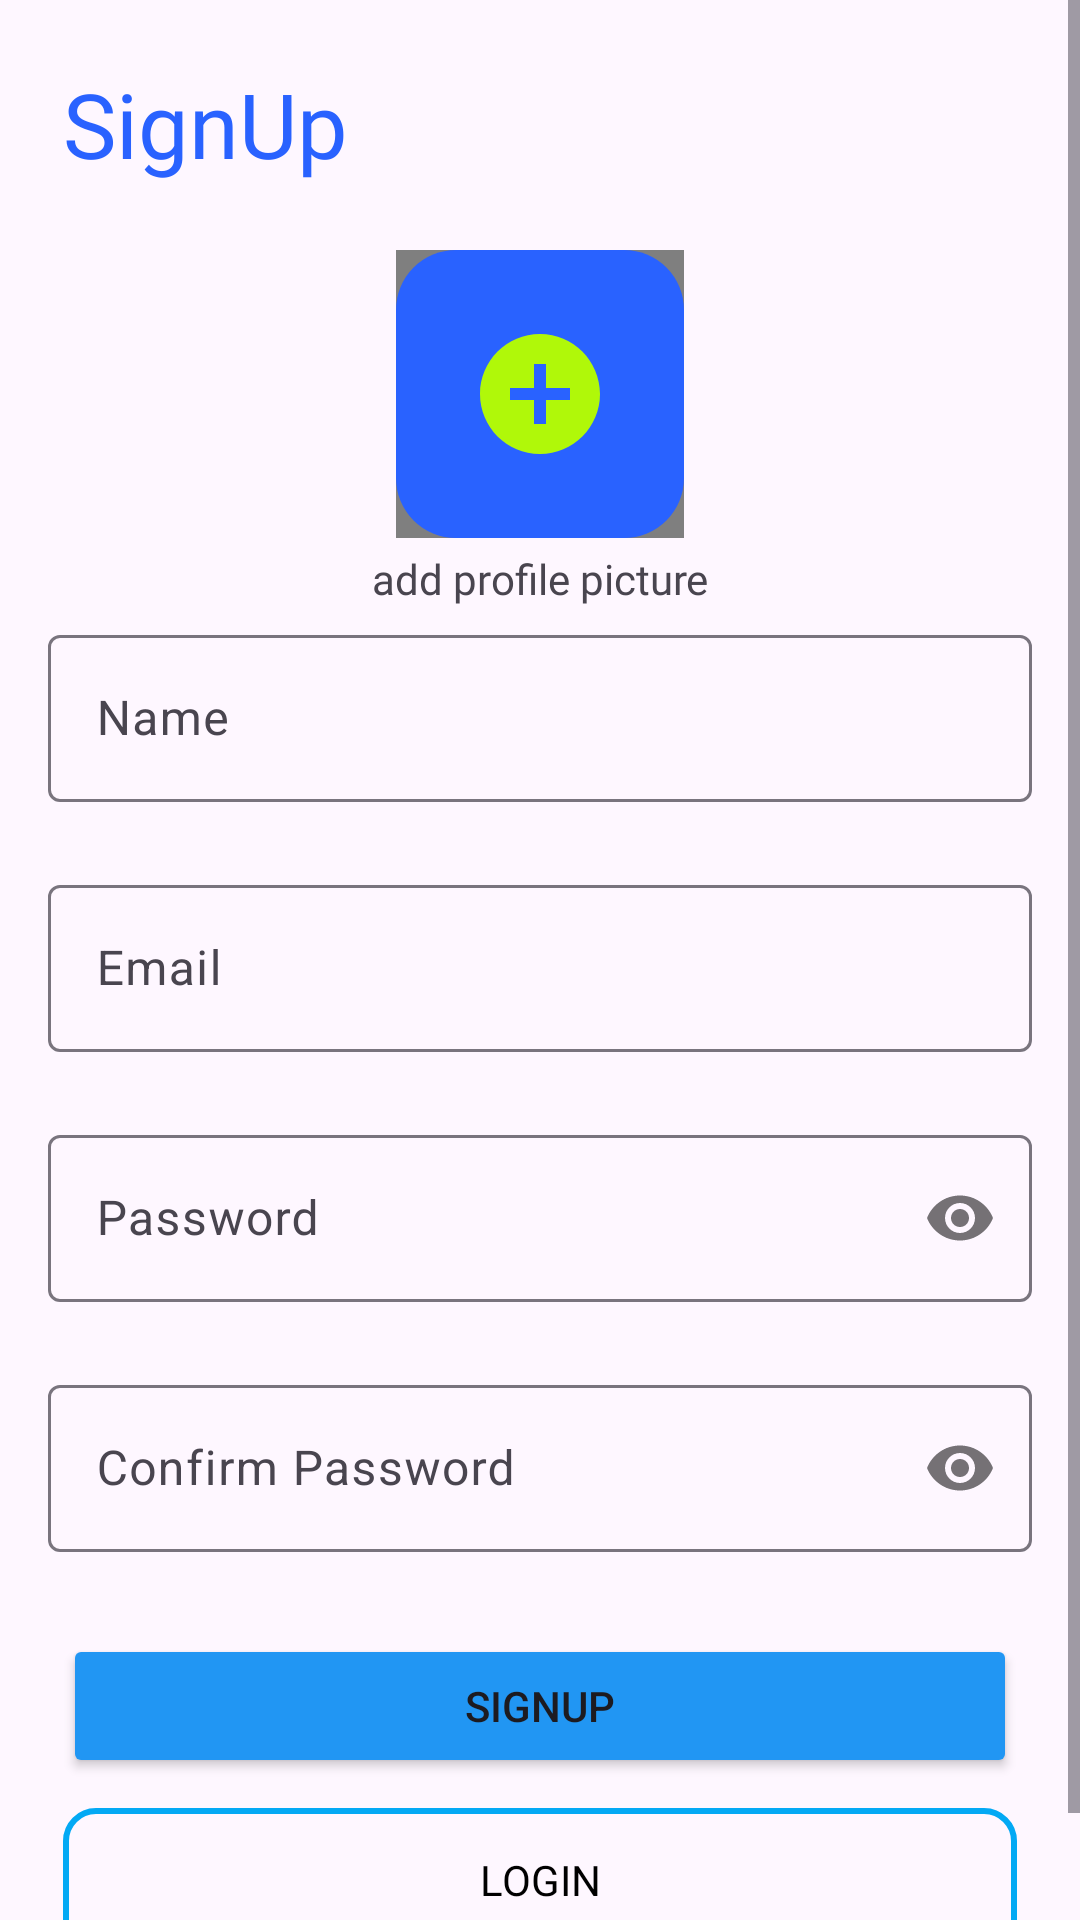

Point at icon controls on the screen. Image size 1080*1920, points as point (x, y).
add circle: point (540, 394)
